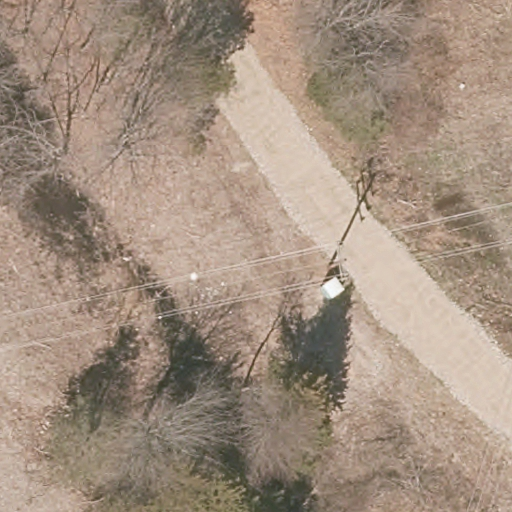DT: (326, 240, 350, 282)
